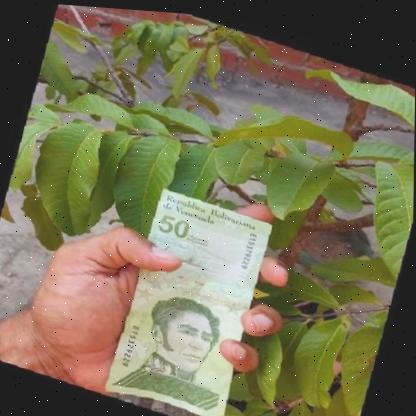fifty-front-vef: (104, 178, 275, 416)
